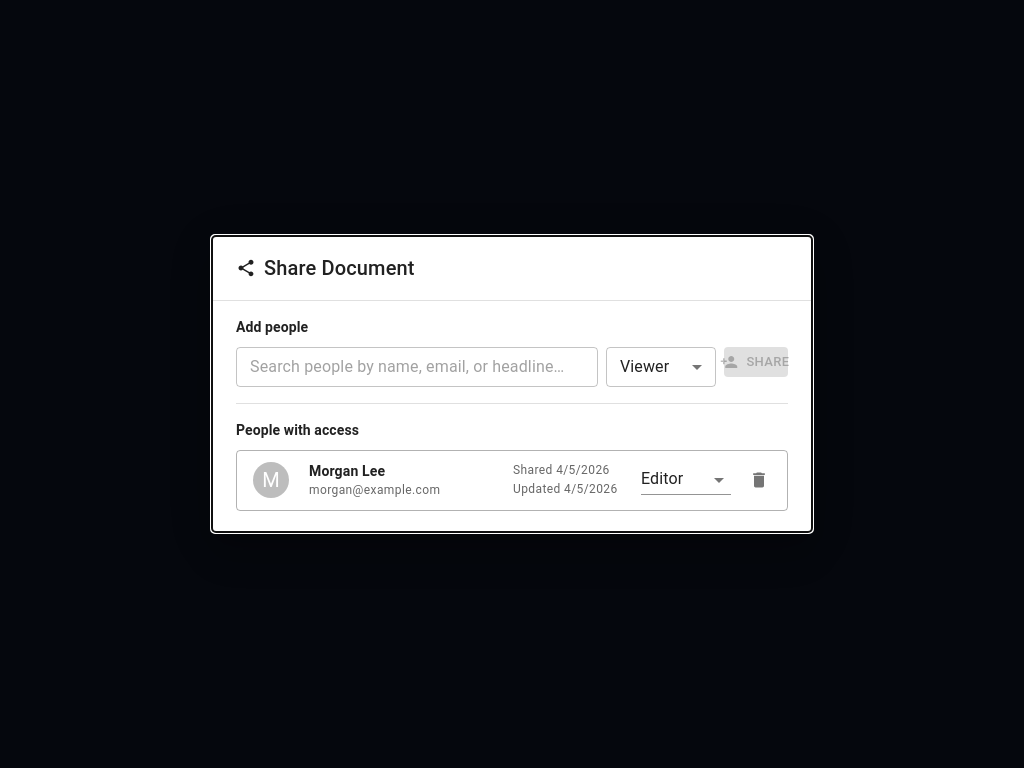
ShareDocumentDialog › renders human-readable share metadata and searches document-specific candidates
Check: the text "Morgan Lee" is shown, box [309,462,385,478]
Check: the text "morgan@example.com" is shown, box [309,482,440,496]
Step 1. Type "ali" into the field with placeholder "Search people by name, email, or headline…" → (417, 366), box [236,346,598,386]
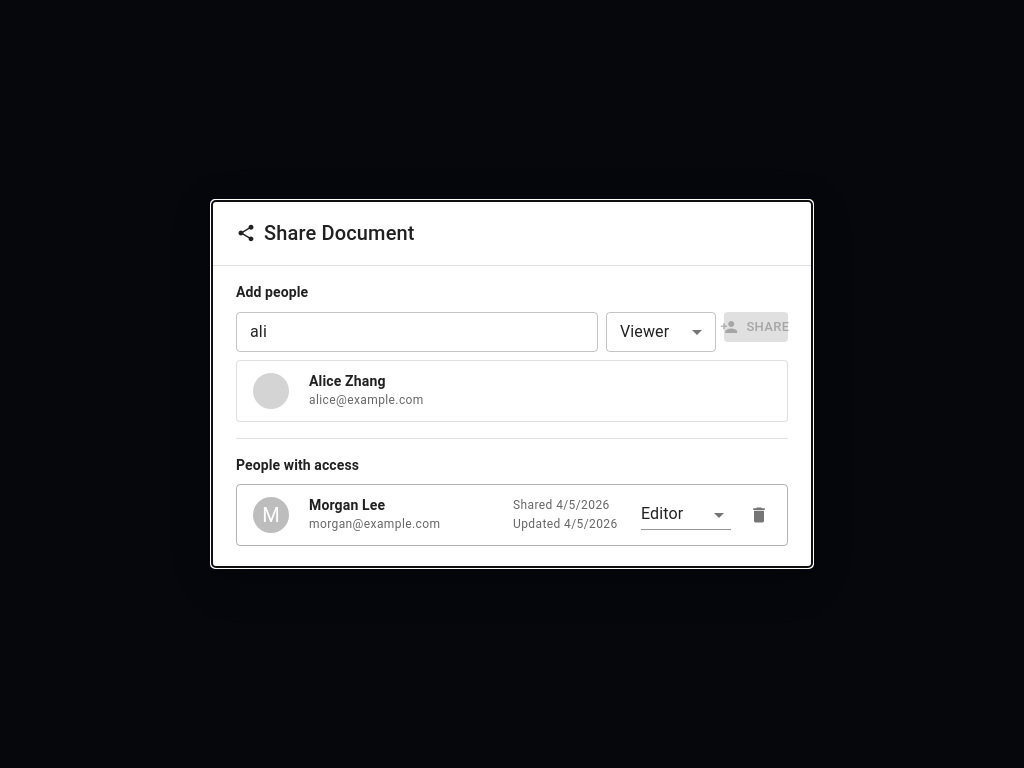
Check: the text "Alice Zhang" is shown, box [309,373,386,389]
Check: the text "alice@example.com" is shown, box [309,393,424,407]
